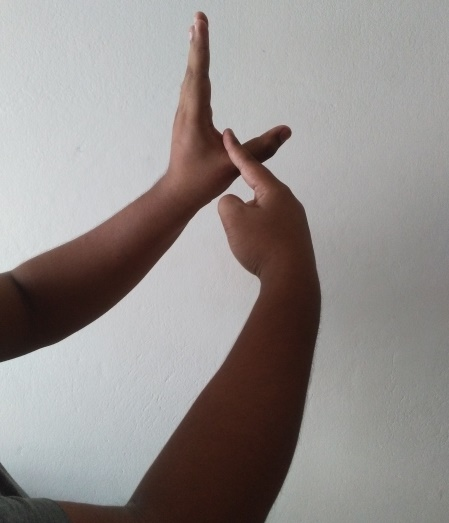dh: (159, 11, 314, 278)
